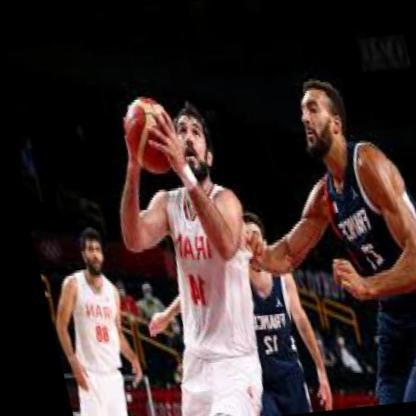basketball: (114, 94, 180, 179)
